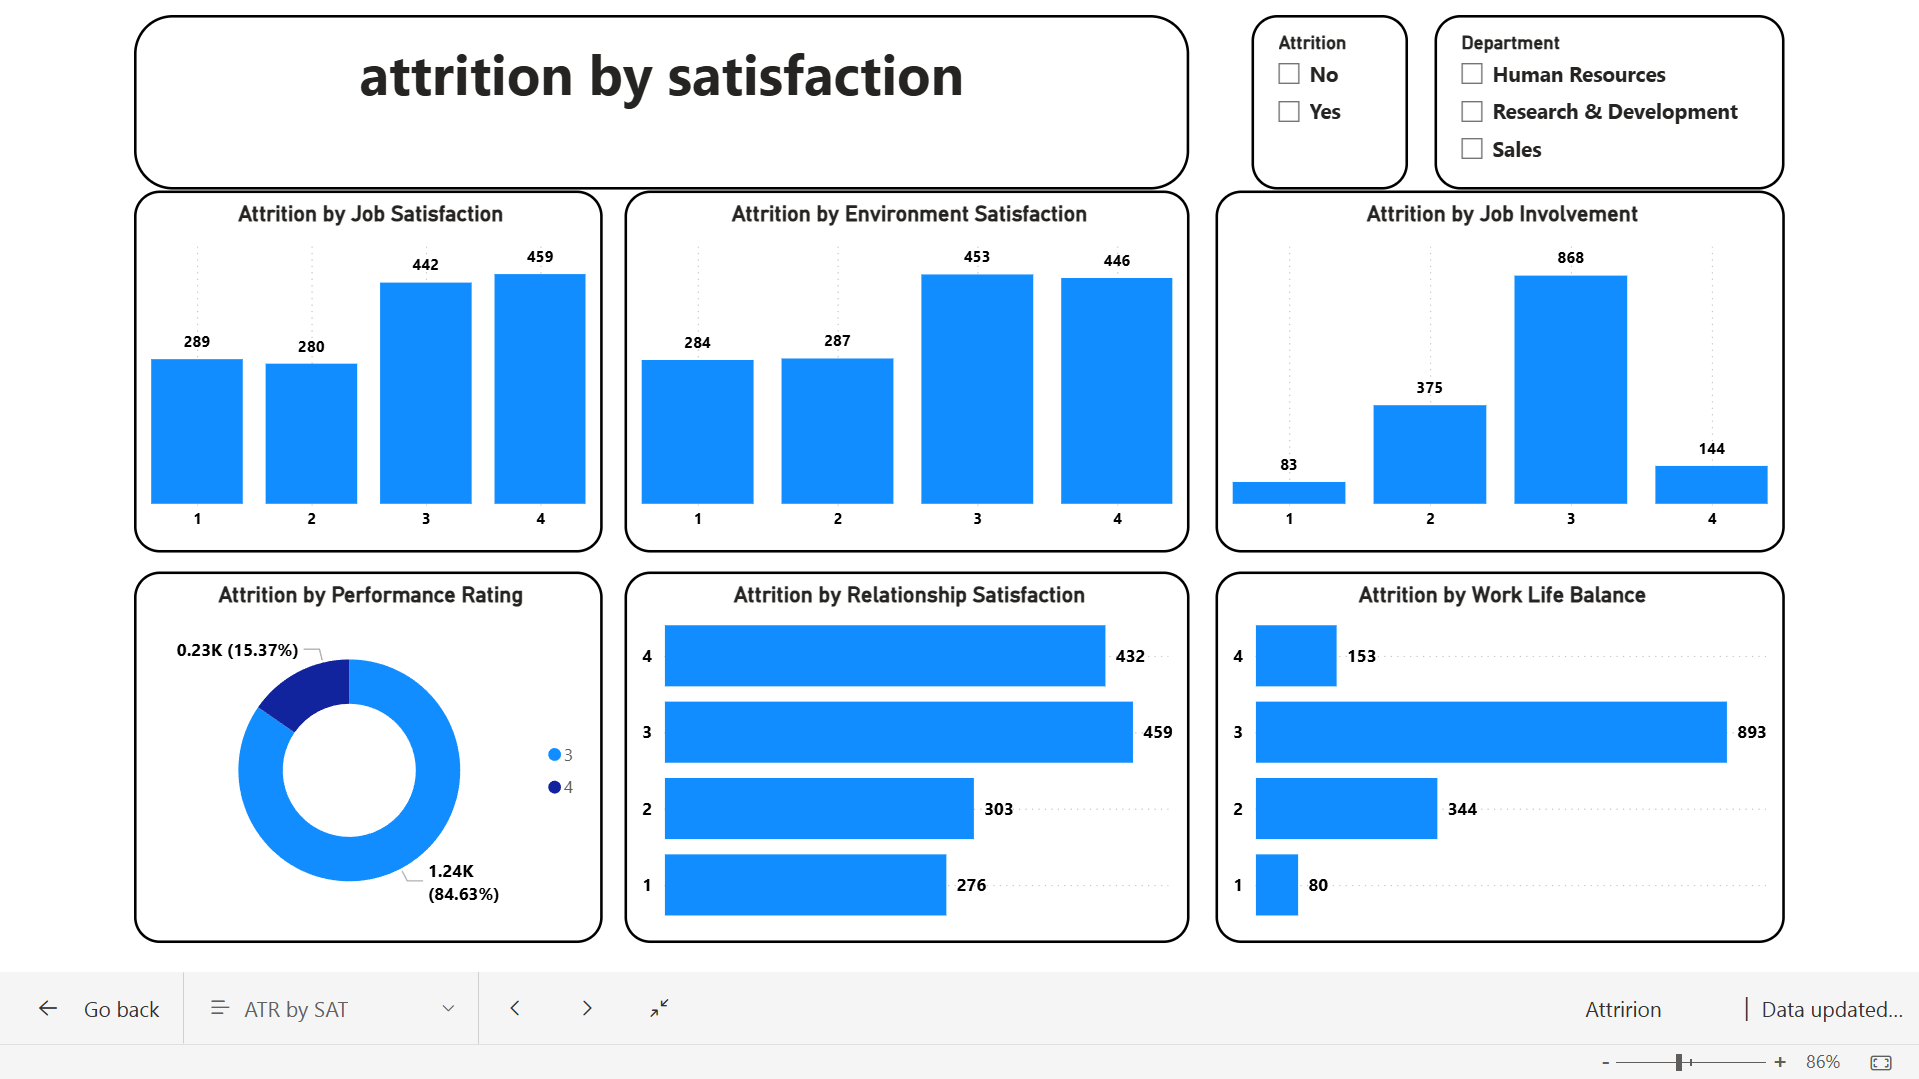

The page's visual inventory and layout, read from the dashboard file:
{"tool":"powerbi","page":{"name":"ATR by SAT","canvas":[1280,720],"ordinal":2},"visuals":[{"type":"clusteredColumnChart","title":"Attrition by Job Involvement","fields":{"Y":["CountNonNull(clean data.Attrition)"],"Category":["clean data.JobInvolvement"]},"box":[838.4,135.6,441,280.5],"z":0},{"type":"clusteredColumnChart","title":"Attrition by Environment Satisfaction","fields":{"Y":["CountNonNull(clean data.Attrition)"],"Category":["clean data.EnvironmentSatisfaction"]},"box":[380.3,135.6,437.9,280.5],"z":1000},{"type":"clusteredColumnChart","title":"Attrition by Job Satisfaction","fields":{"Category":["clean data.JobSatisfaction"],"Y":["CountNonNull(clean data.Attrition)"]},"box":[0,135.6,363.1,280.5],"z":2000},{"type":"donutChart","title":"Attrition by Performance Rating","fields":{"Category":["clean data.PerformanceRating"],"Y":["CountNonNull(clean data.Attrition)"]},"box":[0,431.7,363.1,288.3],"z":3000},{"type":"clusteredBarChart","title":"Attrition by Relationship Satisfaction","fields":{"Category":["clean data.RelationshipSatisfaction"],"Y":["CountNonNull(clean data.Attrition)"]},"box":[380.3,431.7,437.9,288.3],"z":4000},{"type":"clusteredBarChart","title":"Attrition by Work Life Balance","fields":{"Category":["clean data.WorkLifeBalance"],"Y":["CountNonNull(clean data.Attrition)"]},"box":[838.4,431.7,441,288.3],"z":5000},{"type":"textbox","box":[0,0,818.2,135.6],"z":6000},{"type":"slicer","fields":{"Values":["clean data.Department"]},"box":[1008.3,0,271.2,135.6],"z":7000},{"type":"slicer","fields":{"Values":["clean data.Attrition"]},"box":[866.5,0,121.6,135.6],"z":8000}]}

Visuals, with their boxes on the page's 1280x720 design canvas (x1, y1, x2, y2). These are canvas units, not pixel positions in the 1919x1079 screenshot, which may show the page scaled, cropped or inside an application window:
"Attrition by Job Involvement" clusteredColumnChart: [x1=838, y1=136, x2=1279, y2=416]
"Attrition by Environment Satisfaction" clusteredColumnChart: [x1=380, y1=136, x2=818, y2=416]
"Attrition by Job Satisfaction" clusteredColumnChart: [x1=0, y1=136, x2=363, y2=416]
"Attrition by Performance Rating" donutChart: [x1=0, y1=432, x2=363, y2=720]
"Attrition by Relationship Satisfaction" clusteredBarChart: [x1=380, y1=432, x2=818, y2=720]
"Attrition by Work Life Balance" clusteredBarChart: [x1=838, y1=432, x2=1279, y2=720]
textbox: [x1=0, y1=0, x2=818, y2=136]
slicer - clean data.Department: [x1=1008, y1=0, x2=1280, y2=136]
slicer - clean data.Attrition: [x1=866, y1=0, x2=988, y2=136]
